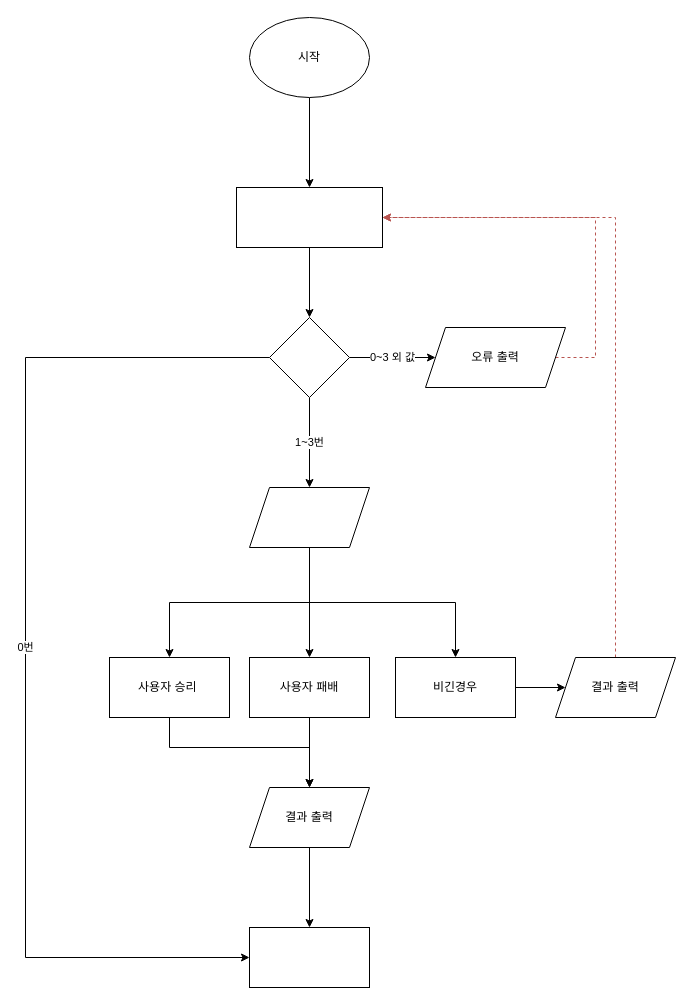
Image size: 693x1005. Some labels were removed from this diagram. Each missing label, with the centre of its shape:
게임안내 0. 종료 1. 가위 2. 바위 3. 보: the point at 309,217
게임종료: the point at 309,957
사용자 번호 입력: the point at 309,357
컴퓨터 랜덤값과 비교: the point at 309,517
